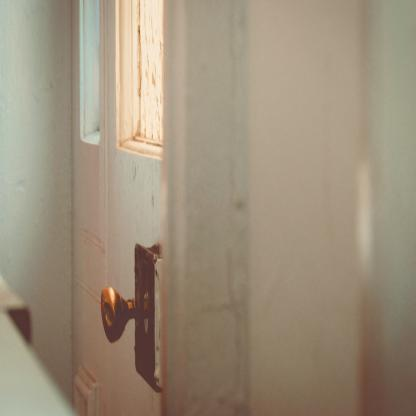door: (104, 0, 163, 415)
knob: (100, 279, 136, 346)
